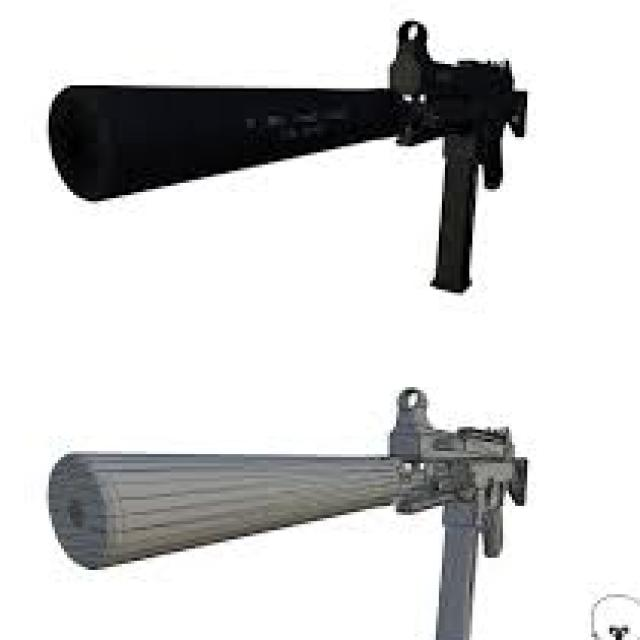Gun: (366, 9, 572, 308), (375, 372, 591, 640)
